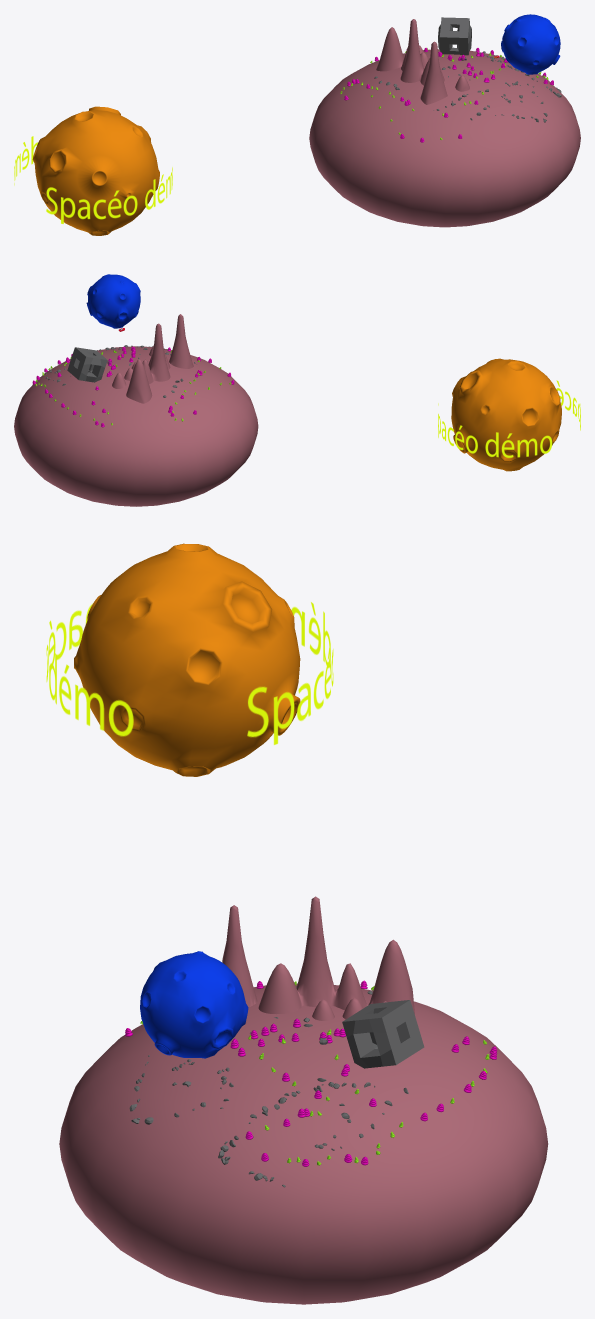
File: mars.glb
3 views of the same model, one above another, from view 1: azimuth 30°, elevation 25°; view 2: azimuth 150°, elevation 25°; view 3: azimuth 270°, elevation 25° (orthographic). The views are drawn at different scales.
Parts seen in each view (by area): view 1: sol, planette_1, Planette_2, Cylinder, bloc, trees, rock; view 2: sol, planette_1, Planette_2, Cylinder, bloc, trees; view 3: sol, planette_1, Planette_2, Cylinder, bloc, trees, rock.
Part boxes in pixels (x1=…): sol: x1=309, y1=19, x2=580, y2=227; planette_1: x1=32, y1=106, x2=159, y2=235; Planette_2: x1=501, y1=14, x2=560, y2=74; Cylinder: x1=14, y1=136, x2=172, y2=223; bloc: x1=438, y1=17, x2=471, y2=55; trees: x1=340, y1=47, x2=553, y2=142; rock: x1=374, y1=51, x2=561, y2=122; sol: x1=14, y1=314, x2=258, y2=506; planette_1: x1=451, y1=358, x2=561, y2=471; Planette_2: x1=86, y1=274, x2=140, y2=328; Cylinder: x1=438, y1=380, x2=580, y2=457; bloc: x1=67, y1=347, x2=107, y2=382; trees: x1=32, y1=346, x2=234, y2=427; sol: x1=59, y1=896, x2=548, y2=1304; planette_1: x1=74, y1=543, x2=300, y2=776; Planette_2: x1=140, y1=951, x2=248, y2=1058; Cylinder: x1=46, y1=602, x2=333, y2=744; bloc: x1=342, y1=1000, x2=424, y2=1068; trees: x1=125, y1=980, x2=497, y2=1166; rock: x1=129, y1=986, x2=408, y2=1187.
Bounding box in the file's own units: 867 × 306 × 367.
10 materials, 1 textured.
